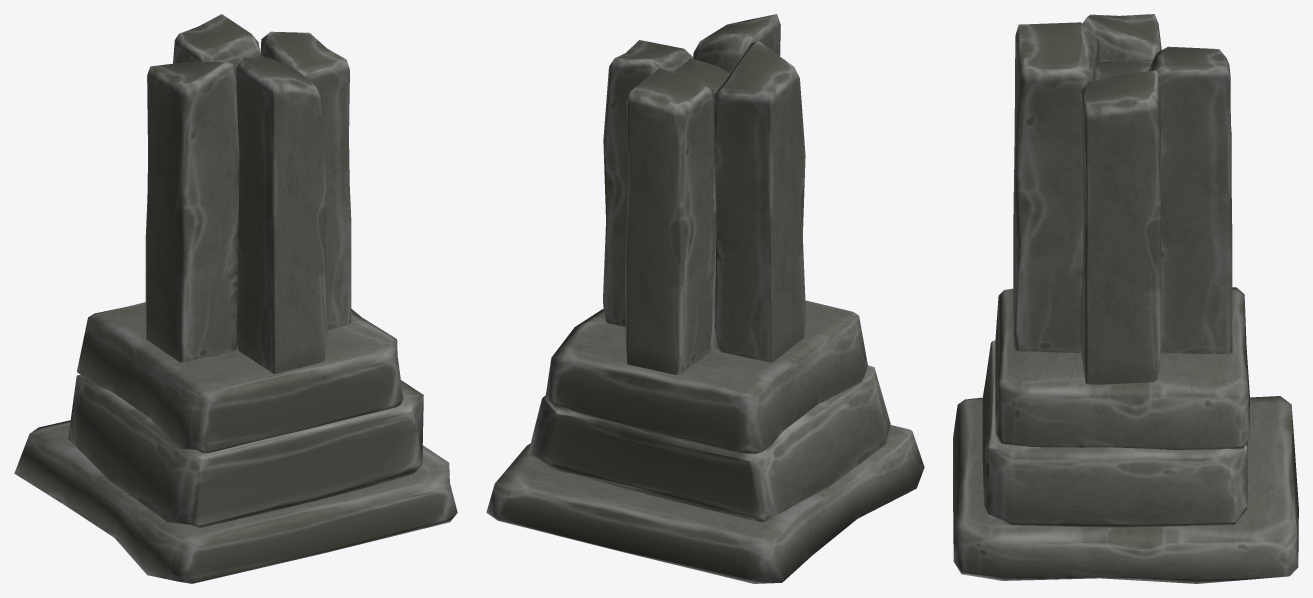
Rendered from Colomn_B_BrokenB.fbx.
The picture shows the model from 3 angles, left to right: view 1: azimuth 30°, elevation 25°; view 2: azimuth 150°, elevation 25°; view 3: azimuth 270°, elevation 25°; orthographic projection. The views are drawn at different scales.
Visible parts, largest first — view 1: Colomn_B_BrokenB; view 2: Colomn_B_BrokenB; view 3: Colomn_B_BrokenB.
Part boxes in pixels (x1,y1,x2,y2): Colomn_B_BrokenB: [14, 14, 457, 583]; Colomn_B_BrokenB: [486, 14, 924, 583]; Colomn_B_BrokenB: [953, 14, 1298, 583].
Size of the model in its own units: 635 by 928 by 604.
